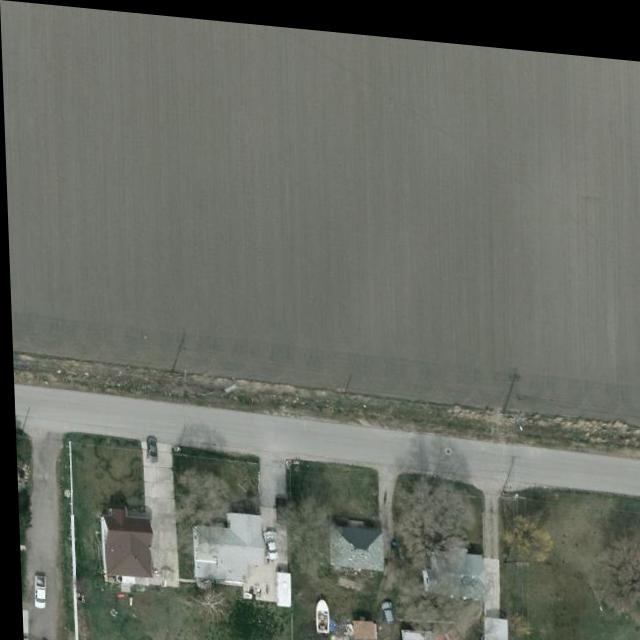vehicle: (259, 524, 277, 556), (30, 575, 44, 610), (375, 593, 390, 618), (143, 434, 155, 461), (431, 638, 448, 640)
